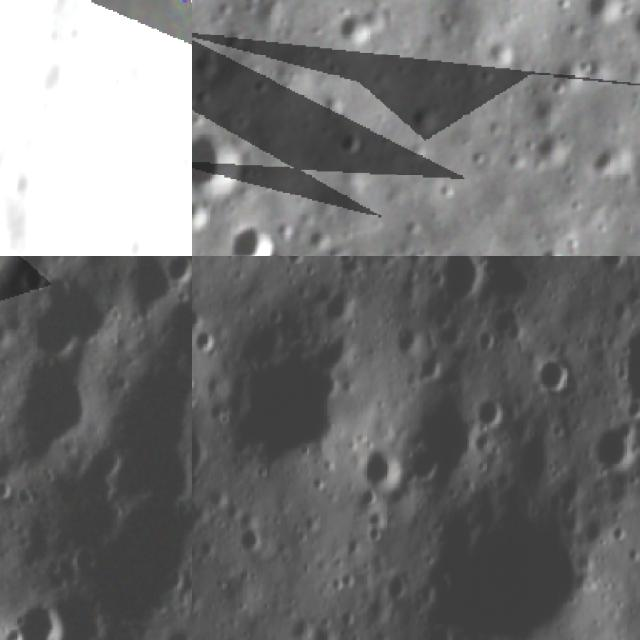crater: (418, 502, 591, 640), (219, 332, 350, 469), (15, 355, 112, 458), (19, 267, 128, 355), (192, 122, 254, 203), (418, 256, 492, 314), (325, 0, 398, 53), (584, 420, 638, 479), (7, 595, 73, 640), (524, 130, 574, 184), (220, 215, 283, 256), (351, 441, 398, 494), (589, 132, 635, 185), (527, 354, 574, 398), (574, 0, 640, 30), (468, 389, 510, 433), (404, 103, 446, 143), (578, 49, 615, 94), (386, 323, 423, 361), (484, 39, 522, 73), (339, 122, 371, 162), (160, 256, 192, 294), (375, 569, 409, 604), (228, 526, 262, 558), (192, 193, 216, 236), (536, 229, 573, 256), (627, 0, 640, 49)
